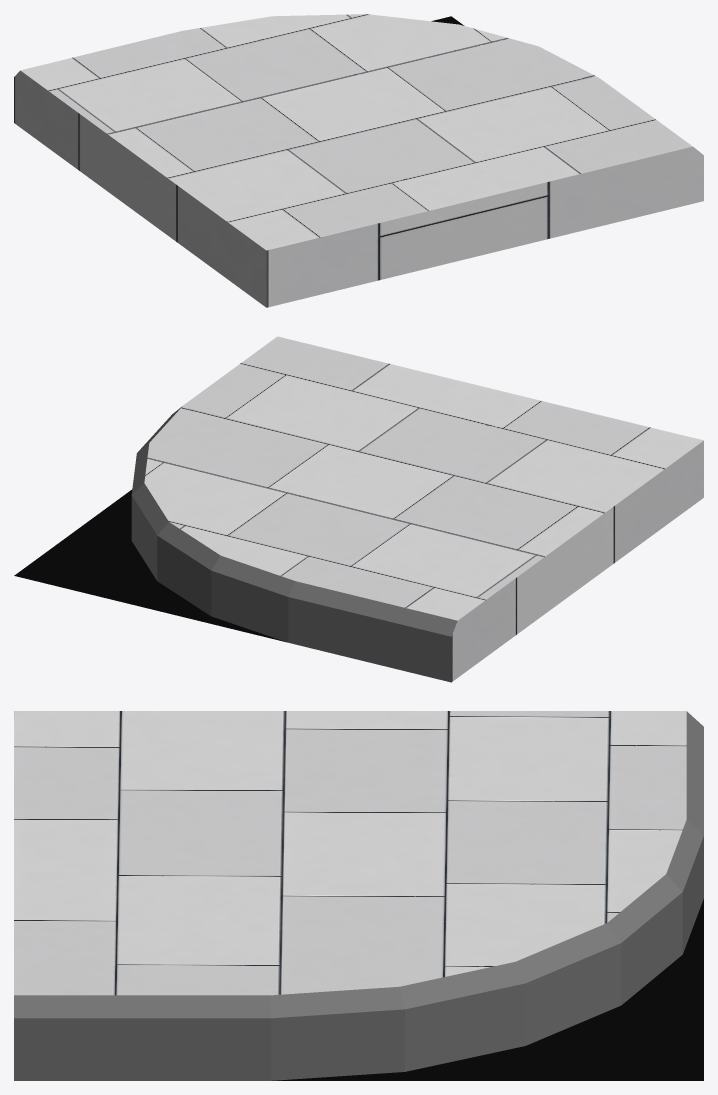
The model's file is Acera_Esquina_Redonda.fbx.
3 views of the same model, one above another, from view 1: azimuth 30°, elevation 25°; view 2: azimuth 150°, elevation 25°; view 3: azimuth 270°, elevation 25° (orthographic). The views are drawn at different scales.
Parts seen in each view (by area): view 1: Esquina redonda; view 2: Esquina redonda; view 3: Esquina redonda.
Part boxes in pixels (left/top/right/bottom): Esquina redonda: left=14, top=14, right=703, bottom=307; Esquina redonda: left=14, top=336, right=703, bottom=682; Esquina redonda: left=14, top=711, right=703, bottom=1080.
Size of the model in its own units: 800 by 100 by 800.
